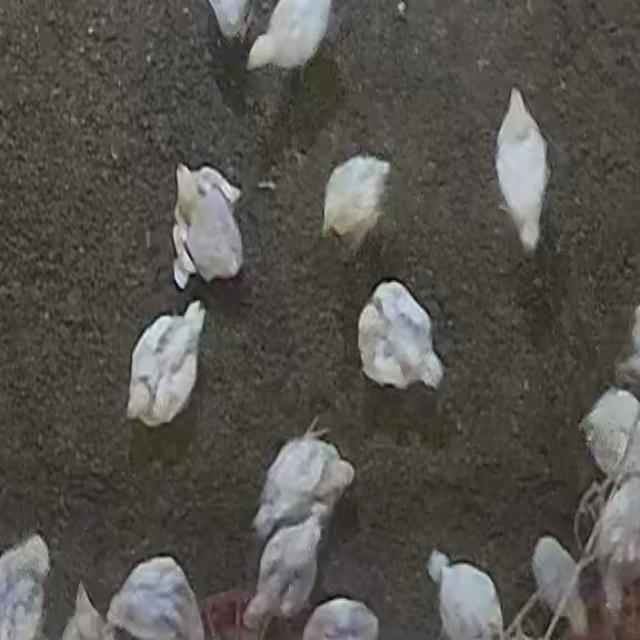chicken: (118, 299, 208, 433), (162, 157, 250, 291), (354, 276, 451, 395), (492, 85, 554, 258), (238, 514, 326, 628), (318, 148, 396, 259)
